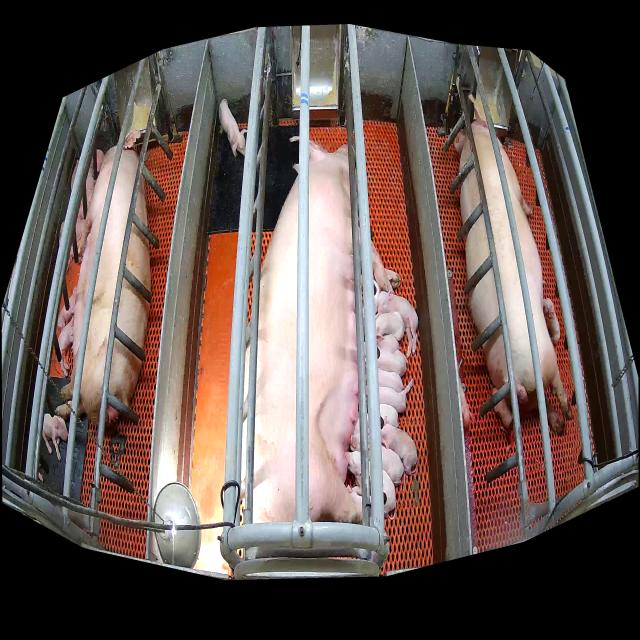pig: (241, 139, 401, 523), (454, 95, 573, 436), (56, 129, 151, 428), (346, 451, 396, 520), (350, 432, 404, 484), (378, 292, 418, 357), (381, 416, 417, 475), (219, 99, 247, 158), (492, 388, 514, 454), (43, 414, 68, 460), (379, 379, 413, 412), (58, 316, 74, 377), (58, 286, 77, 330), (376, 312, 404, 341), (378, 352, 409, 378), (458, 376, 474, 425), (544, 298, 560, 344), (378, 368, 405, 392), (380, 404, 398, 428), (377, 335, 400, 353), (347, 485, 362, 508)
